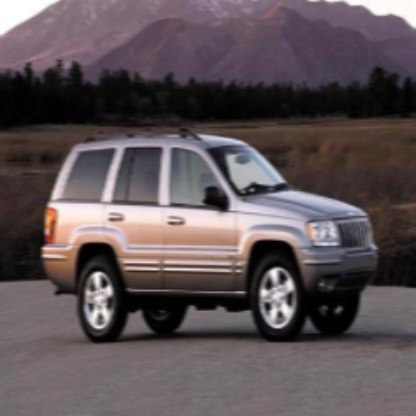Vehicle: (41, 128, 381, 345)
